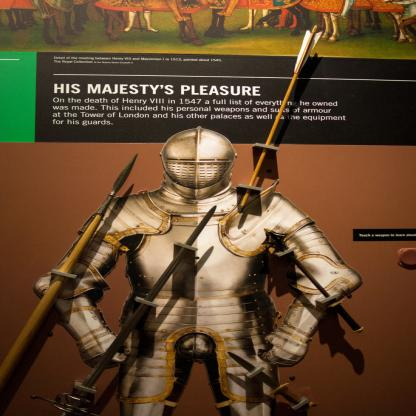Helmet: (159, 129, 235, 185)
